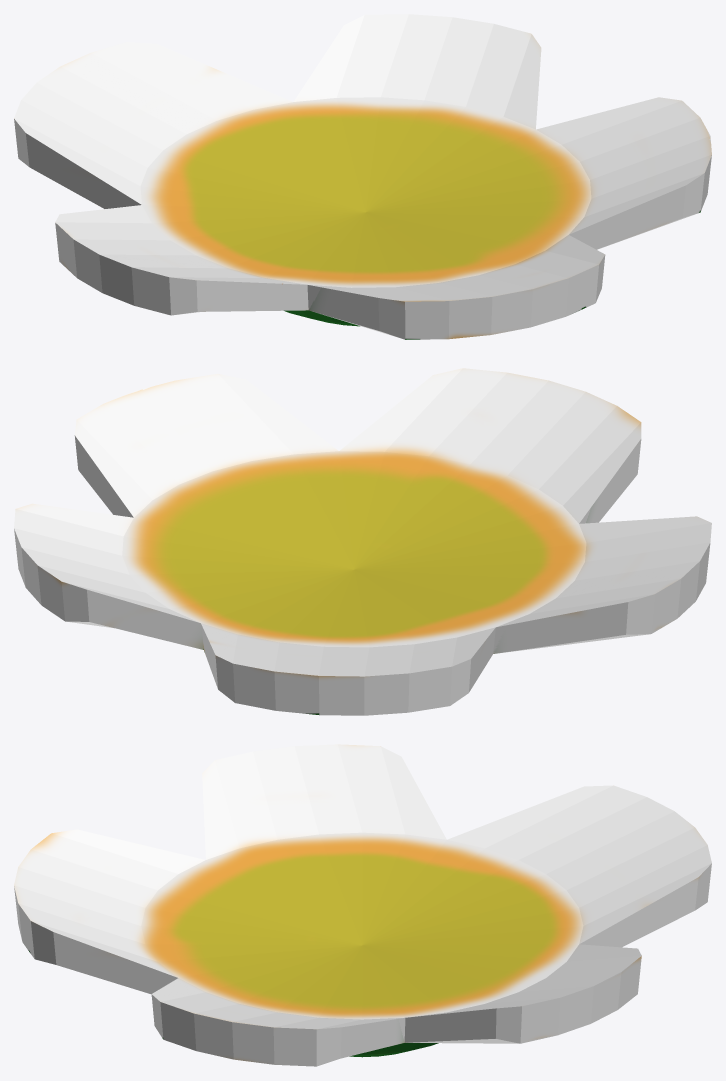
The model's file is FlowerPlatform.fbx.
The picture shows the model from 3 angles, top to bottom: view 1: azimuth 30°, elevation 25°; view 2: azimuth 150°, elevation 25°; view 3: azimuth 270°, elevation 25°; orthographic projection. The views are drawn at different scales.
Parts seen in each view (by area): view 1: Sphere; view 2: Sphere; view 3: Sphere.
Boxes of the visible parts, bbox=[...] form: Sphere: bbox=[14, 14, 711, 339]; Sphere: bbox=[14, 368, 711, 715]; Sphere: bbox=[14, 744, 711, 1066].
Size of the model in its own units: 827 by 201 by 854.
1 material, 1 textured.
